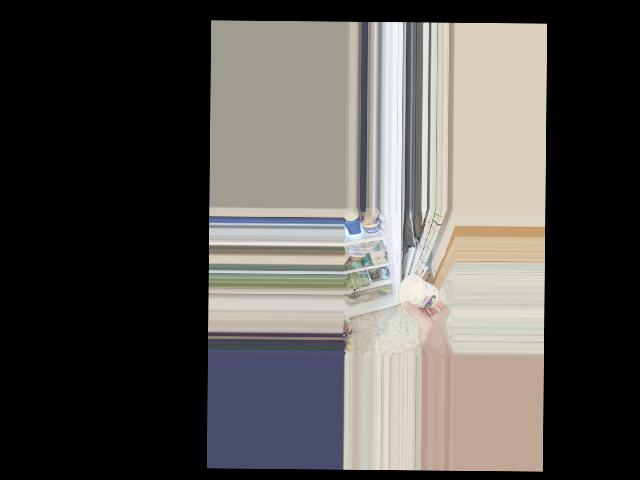cotage: (401, 270, 437, 308)
